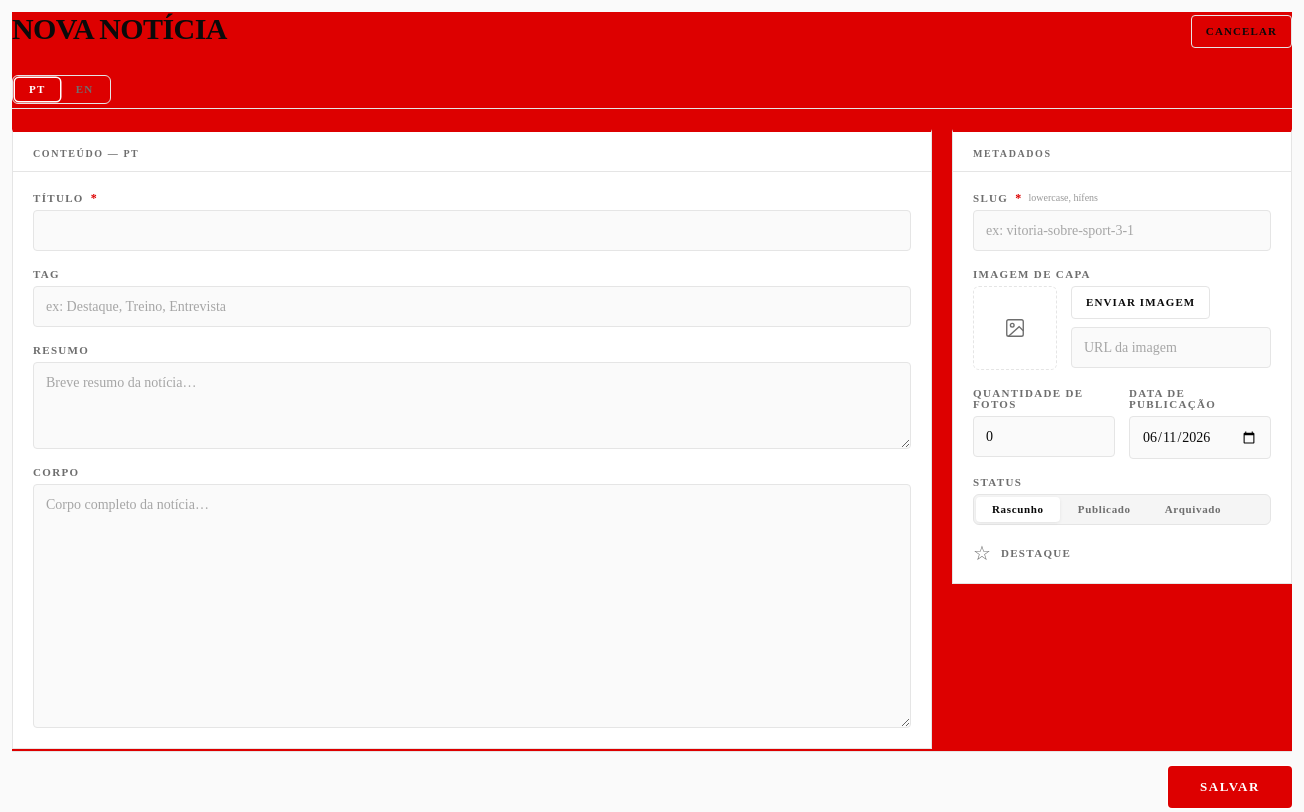
Test: NewsForm › shows success status and redirects after successful create
The image size is (1304, 812).
Type "Artigo teste" into the field labelled "Título *". click: (472, 230)
box: [33, 210, 911, 251]
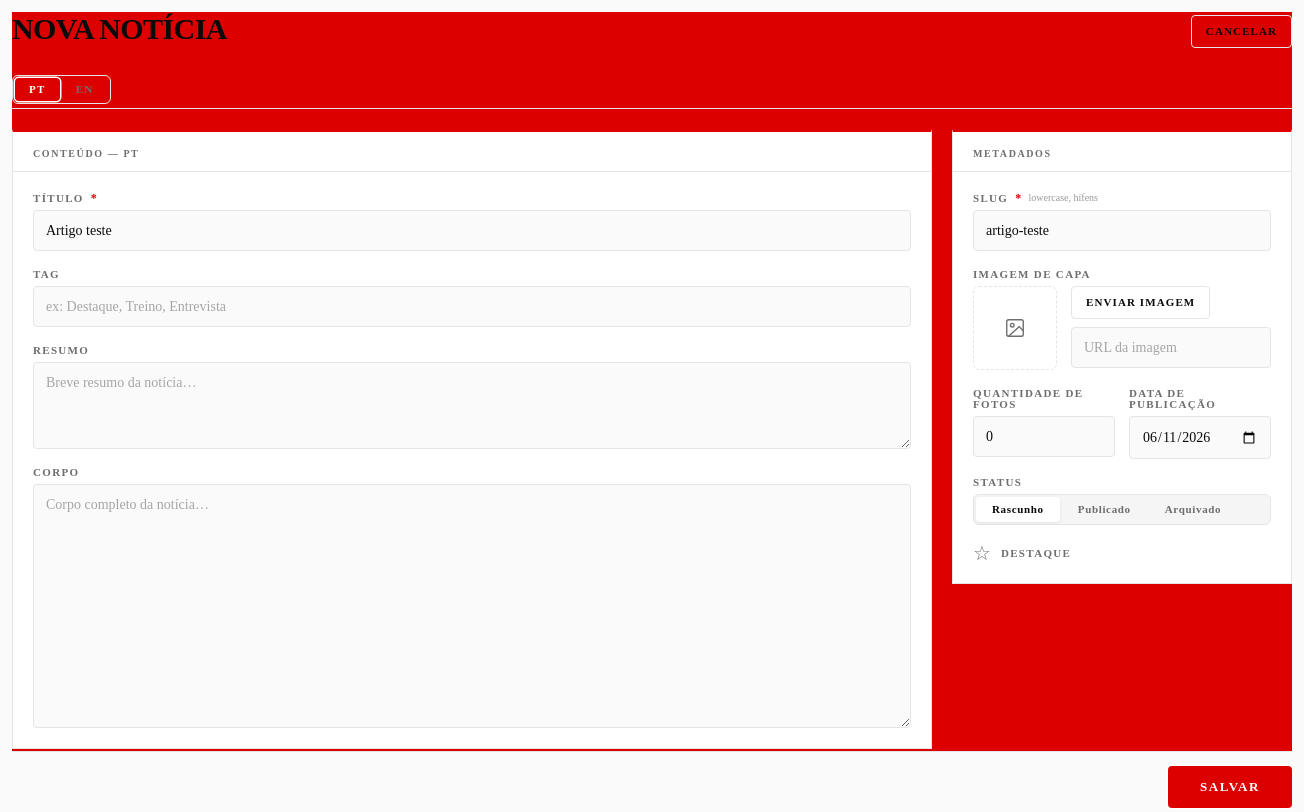
Click the button "Salvar". click: (1230, 787)
box: [1168, 766, 1292, 808]
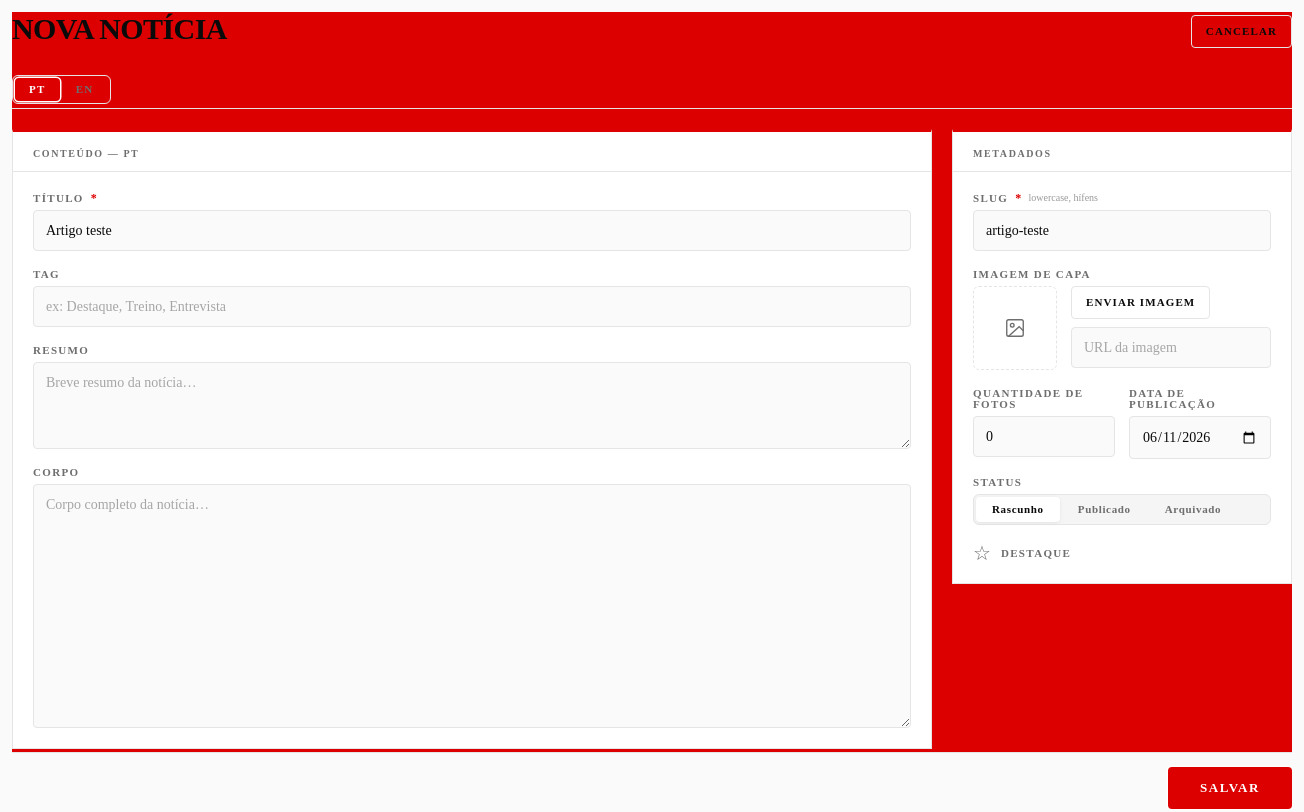
Now the message "Notícia salva." is shown, box [12, 765, 1292, 811]
